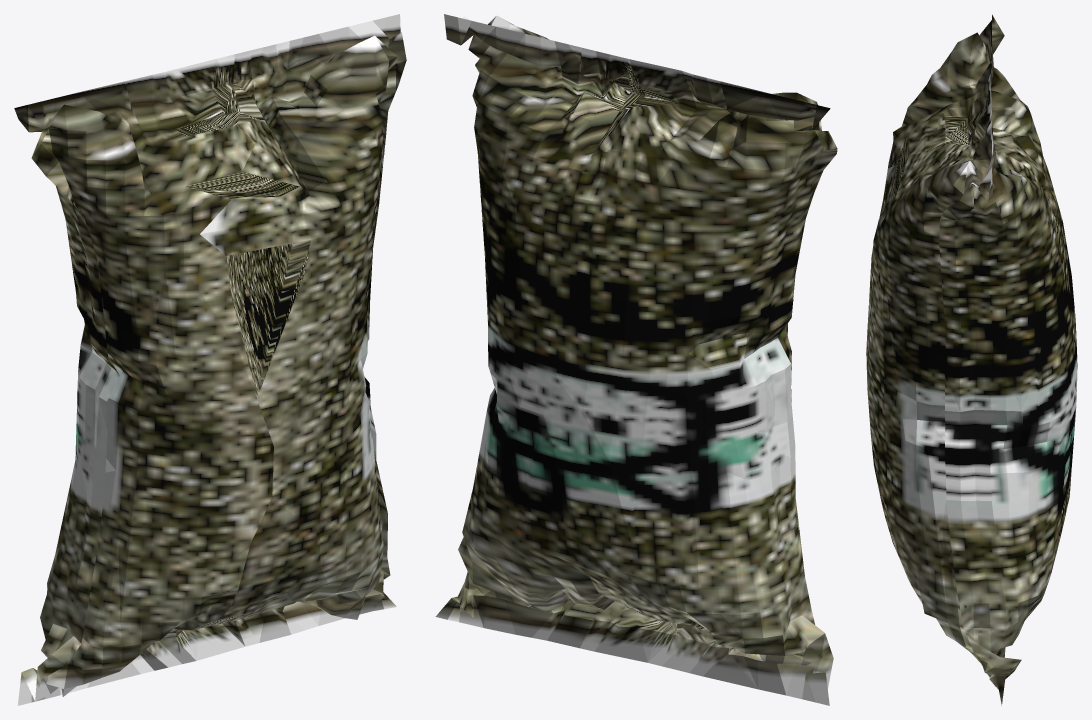
The model's file is catnip.glb.
3 views of the same model, side by side, from view 1: azimuth 30°, elevation 25°; view 2: azimuth 150°, elevation 25°; view 3: azimuth 270°, elevation 25° (orthographic). The views are drawn at different scales.
Visible parts, largest first — view 1: Plane; view 2: Plane; view 3: Plane.
Boxes of the visible parts, box(x1,y1,x2,y2) form: Plane: box(14, 14, 406, 705); Plane: box(435, 14, 837, 705); Plane: box(866, 14, 1077, 705).
Size of the model in its own units: 2.01 by 2.96 by 1.08.
1 material, 1 textured.
